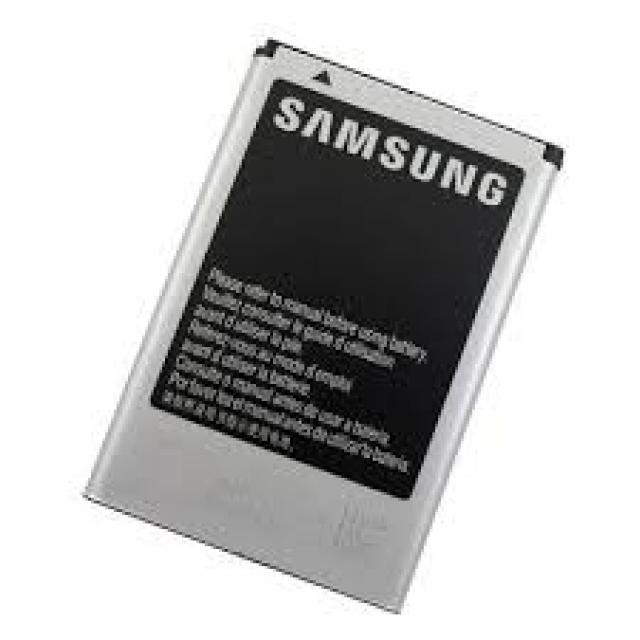battery: (85, 39, 568, 613)
